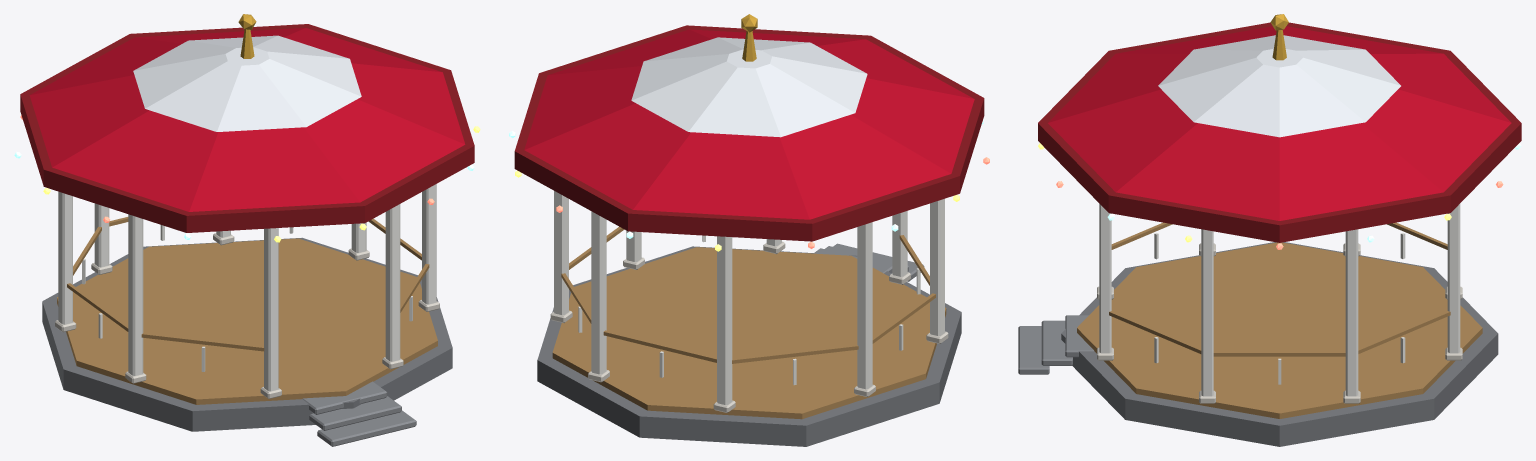
File: bandstand.glb
3 renders of one model, left to right at view 1: azimuth 30°, elevation 25°; view 2: azimuth 150°, elevation 25°; view 3: azimuth 270°, elevation 25°, orthographic. The views are drawn at different scales.
Visible parts, largest first — view 1: bandstand; view 2: bandstand; view 3: bandstand.
Boxes of the visible parts, <box> form: bandstand: <box>14,14,480,446</box>; bandstand: <box>509,14,989,446</box>; bandstand: <box>1018,14,1521,446</box>.
Bounding box in the file's own units: 6.2 × 4.8 × 6.45.
